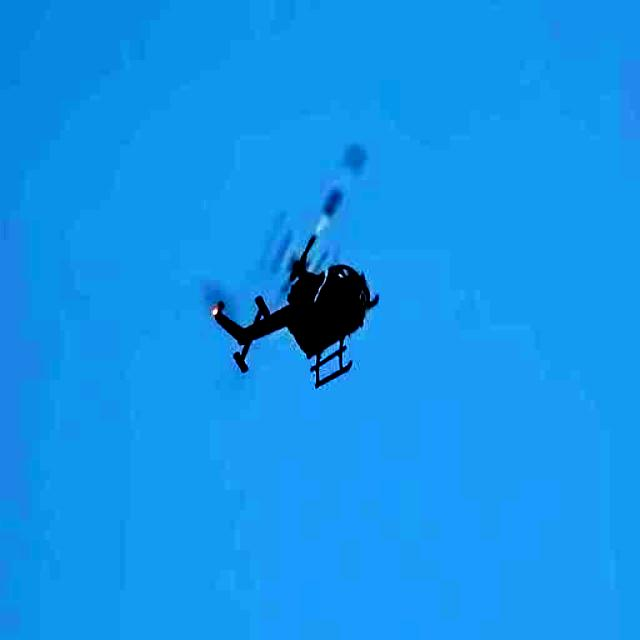drone: (204, 172, 384, 414)
